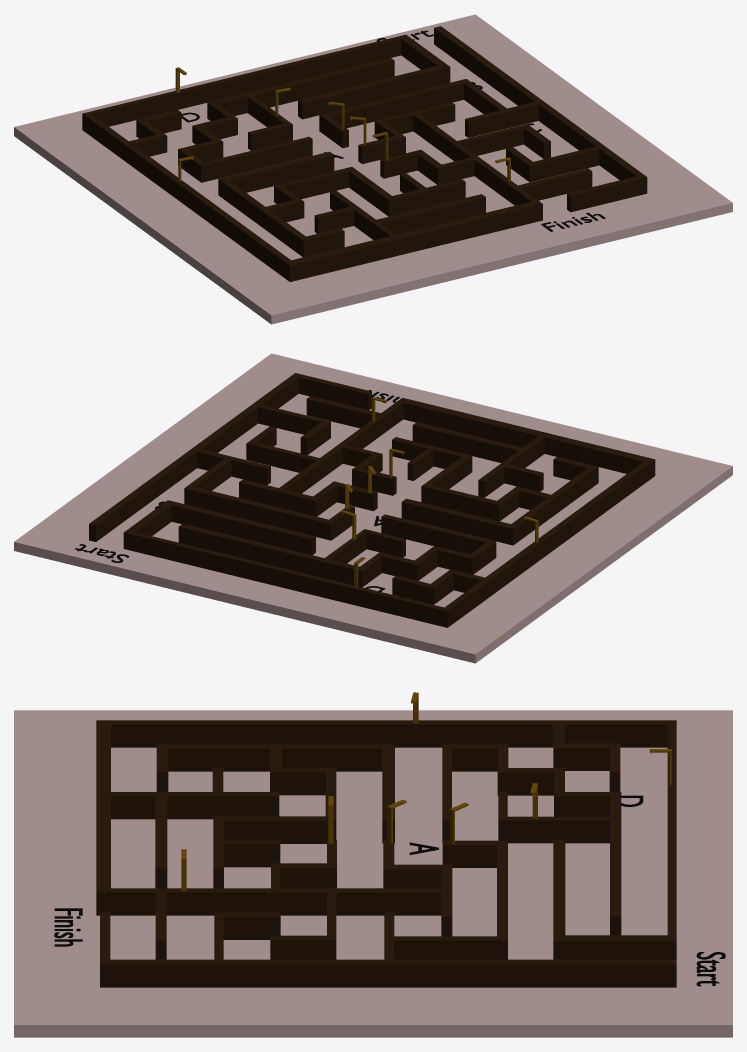
The model's file is maze_runner.glb.
3 renders of one model, top to bottom at view 1: azimuth 30°, elevation 25°; view 2: azimuth 150°, elevation 25°; view 3: azimuth 270°, elevation 25°, orthographic. The views are drawn at different scales.
Visible parts, largest first — view 1: Plane, Cube, Cube.001; view 2: Plane, Cube, Cube.001; view 3: Plane, Cube, Cube.001, Text.001.
Part boxes in pixels (bbox=[...]): Plane: bbox=[14, 14, 732, 324]; Cube: bbox=[178, 26, 647, 257]; Cube.001: bbox=[82, 34, 550, 281]; Plane: bbox=[14, 353, 732, 663]; Cube: bbox=[89, 373, 598, 587]; Cube.001: bbox=[123, 397, 655, 627]; Plane: bbox=[14, 710, 732, 1037]; Cube: bbox=[100, 744, 676, 987]; Cube.001: bbox=[96, 720, 676, 959]; Text.001: bbox=[54, 908, 82, 946].
Bounding box in the file's own units: 10.67 × 1.17 × 10.3.
